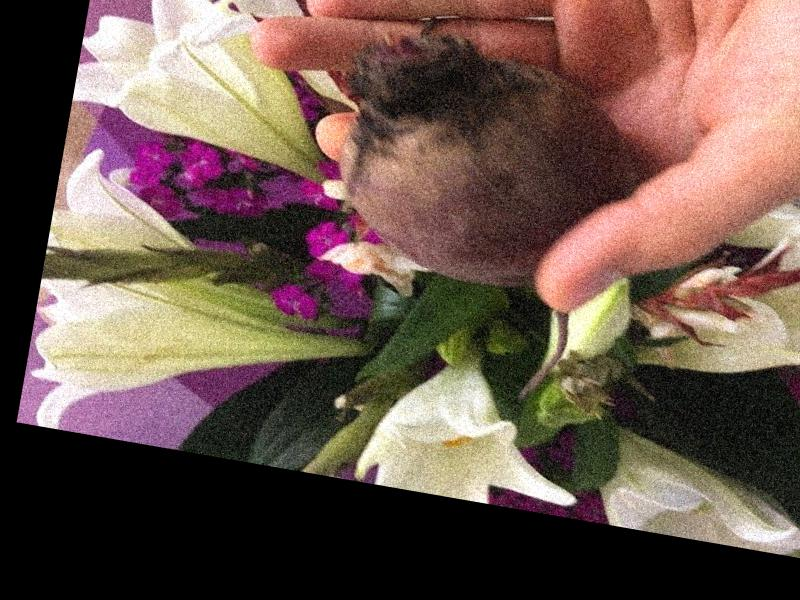Beet: (299, 28, 648, 413)
